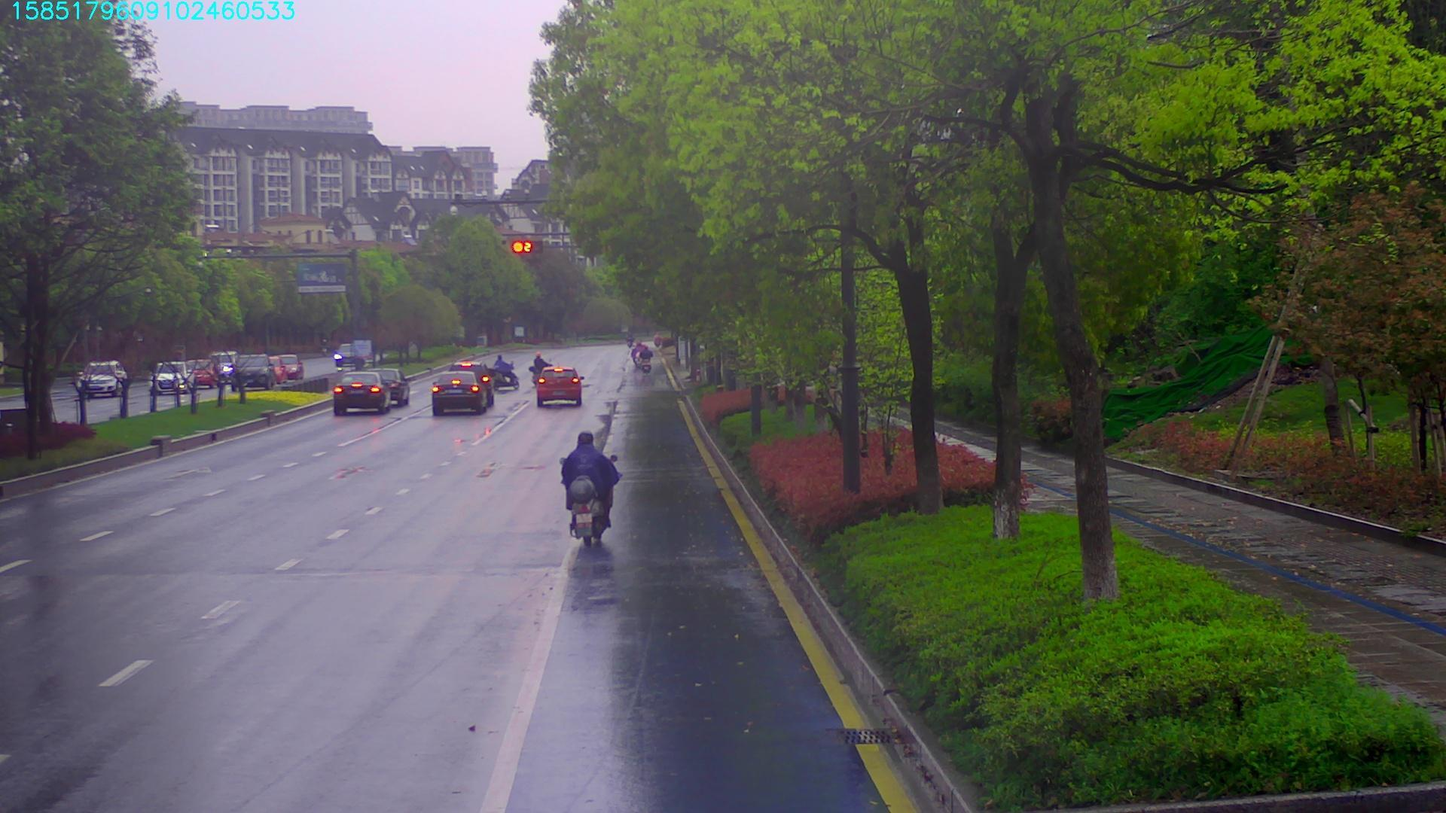red: (511, 233, 543, 254)
